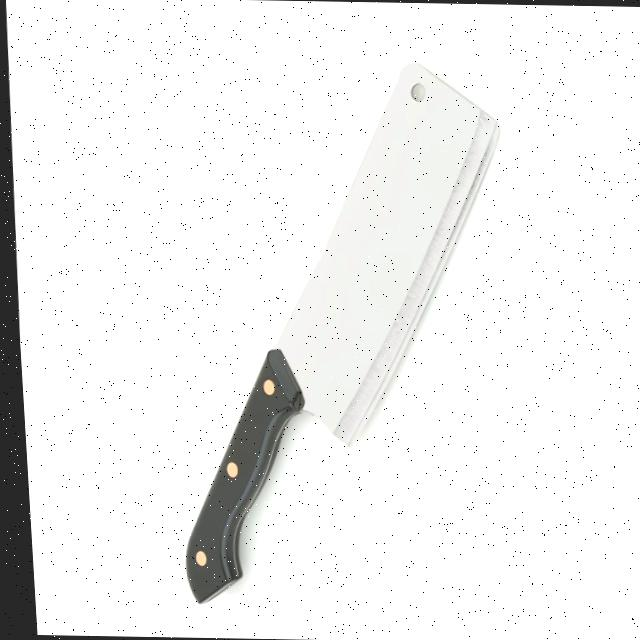knife: (152, 54, 526, 610)
